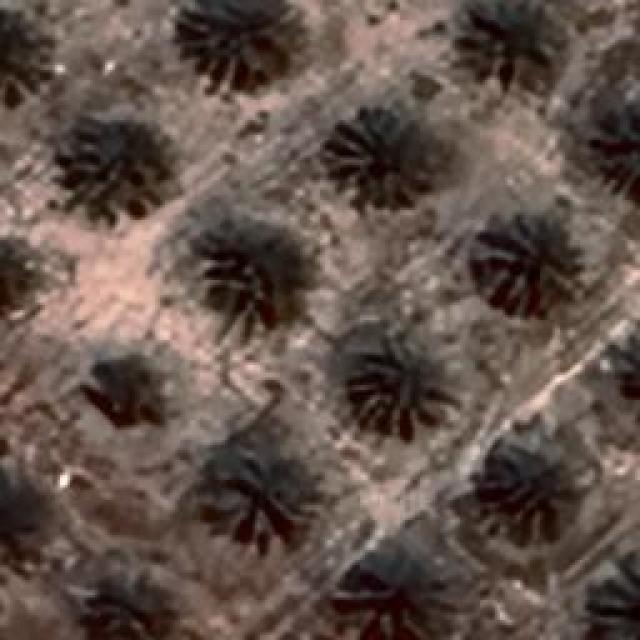PalmTree: (198, 222, 312, 342), (58, 115, 172, 220), (325, 105, 440, 205), (180, 0, 305, 88), (348, 338, 458, 438), (474, 210, 578, 315), (25, 100, 50, 517), (344, 550, 454, 640), (488, 430, 582, 528), (455, 0, 565, 78), (208, 460, 302, 538), (590, 100, 640, 201), (0, 7, 52, 102), (590, 560, 638, 638), (88, 582, 152, 640), (18, 90, 36, 277), (613, 324, 640, 434), (622, 326, 640, 435), (627, 328, 640, 433)
